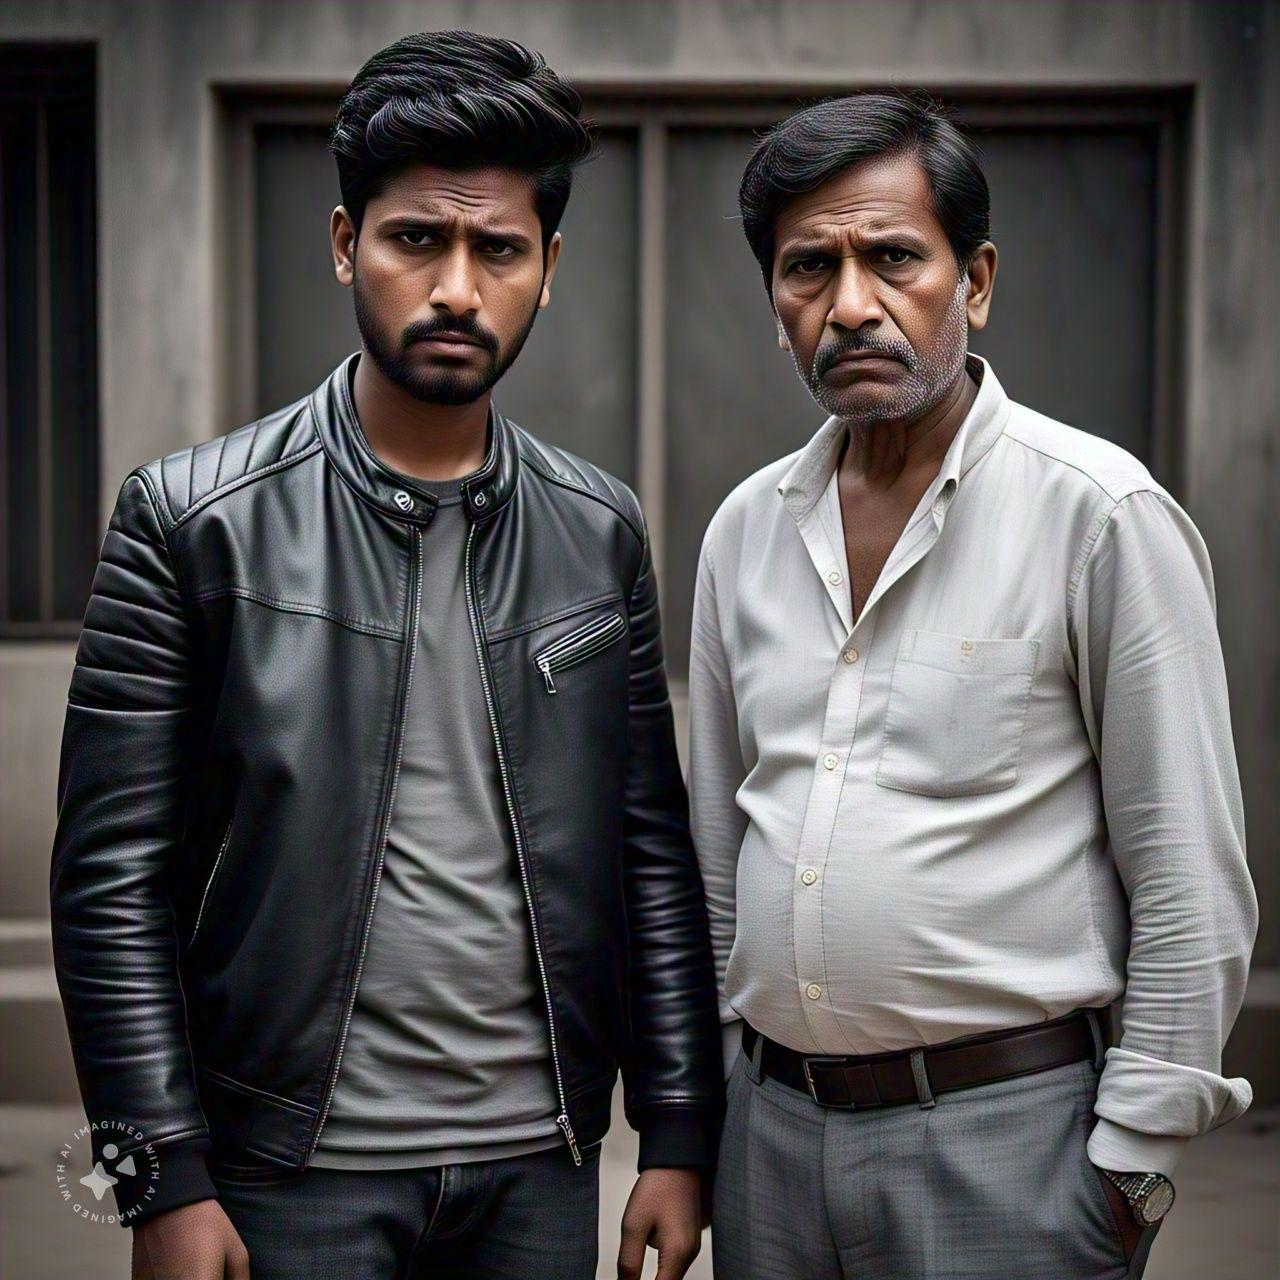normal: (758, 145, 999, 420)
triste: (338, 141, 564, 408)
